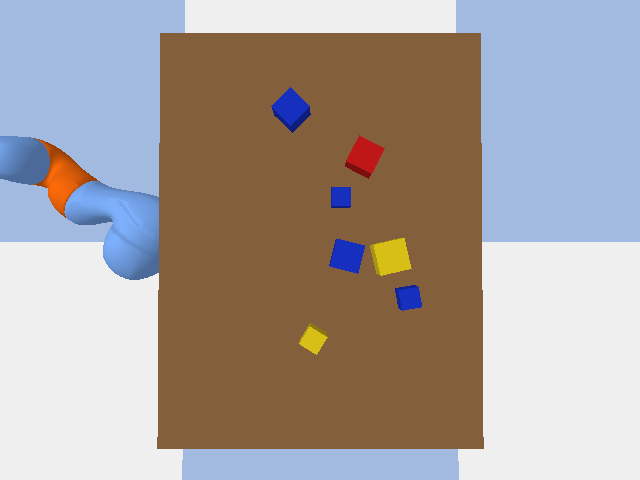blue_obj: (271, 87, 310, 132), (329, 239, 364, 273), (395, 285, 421, 310), (331, 187, 350, 207)
red_obj: (345, 135, 384, 178)
yellow_obj: (370, 238, 411, 275), (299, 323, 327, 354)
